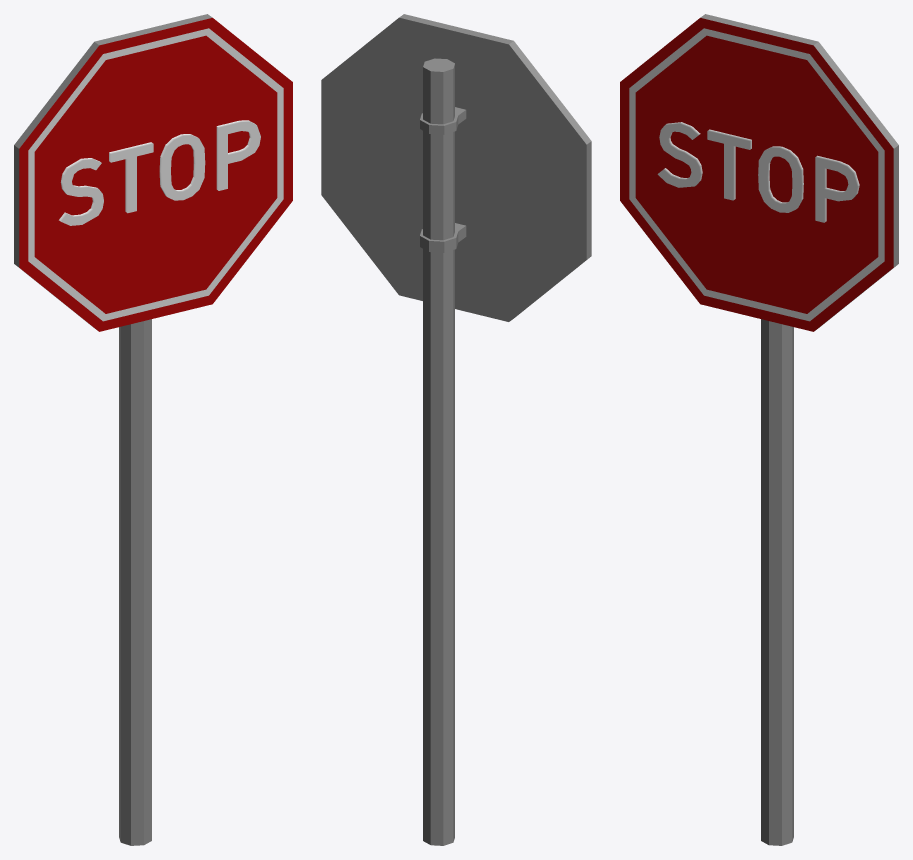
Rendered from Stop Sign.fbx.
3 renders of one model, left to right at view 1: azimuth 30°, elevation 25°; view 2: azimuth 150°, elevation 25°; view 3: azimuth 330°, elevation 25°, orthographic. The views are drawn at different scales.
Visible parts, largest first — view 1: polySurface149; view 2: polySurface149; view 3: polySurface149.
Boxes of the visible parts, x1,y1,x2,y2 form: polySurface149: [14, 14, 292, 845]; polySurface149: [321, 14, 591, 845]; polySurface149: [620, 14, 898, 845].
Size of the model in its own units: 1.37 by 3.93 by 0.2864.
